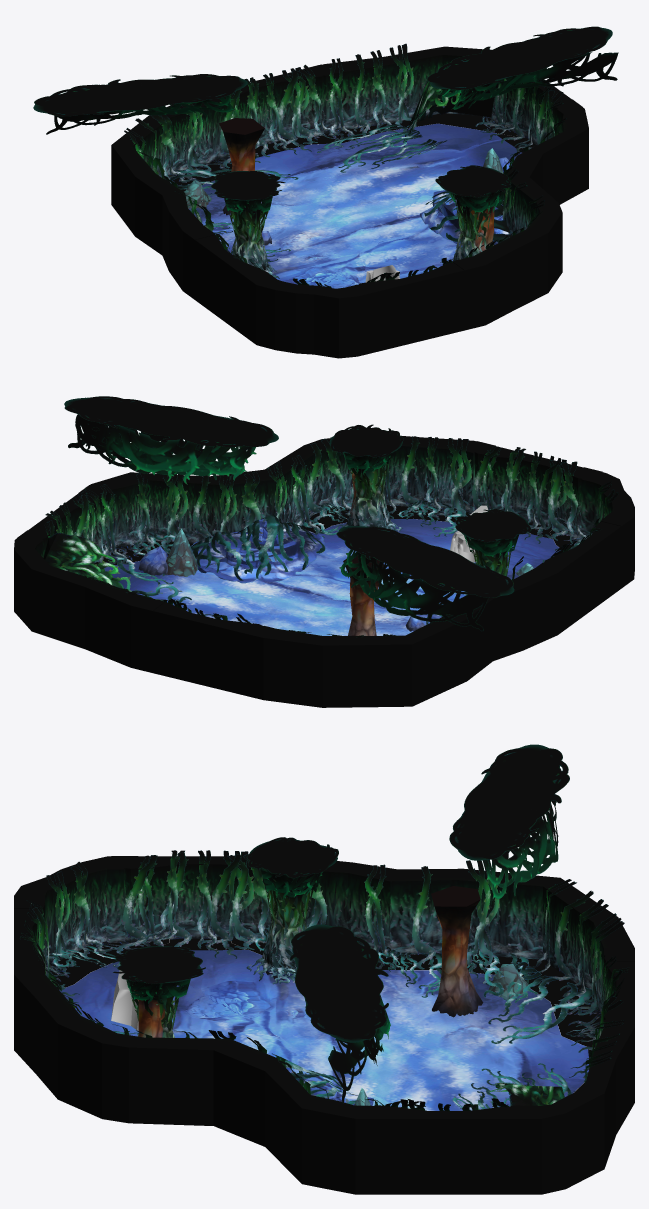
The model's file is Dungeon_012_BossRoom.fbx.
3 renders of one model, top to bottom at view 1: azimuth 30°, elevation 25°; view 2: azimuth 150°, elevation 25°; view 3: azimuth 270°, elevation 25°, orthographic. The views are drawn at different scales.
Visible parts, largest first — view 1: Dun_021_Room_003_wall, Dun_021_Room_003_ground, un_021_Door_002 (×4), Dungeon_021_Object_025, Dungeon_021_Object_021, un_021_Door_002_Object1 (×2), Dungeon_021_Object_024, Dungeon_021_Object_010, Dungeon_021_Object_012, Dungeon_011_Object_010 (×2), Dun_011_Room_003_shadow, Dungeon_021_Object_013 (+5 smaller); view 2: Dun_021_Room_003_wall, Dungeon_021_Object_025, un_021_Door_002 (×4), Dun_021_Room_003_ground, Dungeon_021_Object_021, un_021_Door_002_Object1 (×2), Dungeon_021_Object_015, Dungeon_021_Object_016, Dungeon_021_Object_024, Dungeon_021_Object_012, Dungeon_021_Object_010, Dungeon_021_Object_011 (+7 smaller); view 3: Dun_021_Room_003_wall, Dun_021_Room_003_ground, Dungeon_021_Object_025, un_021_Door_002 (×4), Dungeon_021_Object_021, un_021_Door_002_Object1 (×3), Dungeon_011_Object_010 (×2), Dungeon_021_Object_022, Dun_011_Room_003_shadow, Dungeon_021_Object_012, Dungeon_021_Object_010, Dungeon_021_Object_013 (+6 smaller).
Part boxes in pixels (<box>): Dun_021_Room_003_wall: <box>111,46,588,358</box>; Dun_021_Room_003_ground: <box>188,123,521,288</box>; un_021_Door_002 (×4): <box>185,64,582,351</box>; Dungeon_021_Object_025: <box>33,26,618,134</box>; Dungeon_021_Object_021: <box>124,43,566,287</box>; un_021_Door_002_Object1 (×2): <box>219,64,563,168</box>; Dungeon_021_Object_024: <box>317,81,498,172</box>; Dungeon_021_Object_010: <box>435,165,511,213</box>; Dungeon_021_Object_012: <box>211,171,285,215</box>; Dungeon_011_Object_010 (×2): <box>219,118,503,252</box>; Dun_011_Room_003_shadow: <box>166,113,517,191</box>; Dungeon_021_Object_013: <box>227,202,279,278</box>; Dun_021_Room_003_wall: <box>14,435,634,707</box>; Dungeon_021_Object_025: <box>64,396,514,631</box>; un_021_Door_002 (×4): <box>17,441,631,694</box>; Dun_021_Room_003_ground: <box>104,518,560,635</box>; Dungeon_021_Object_021: <box>72,436,618,637</box>; un_021_Door_002_Object1 (×2): <box>44,446,586,562</box>; Dungeon_021_Object_015: <box>191,519,325,583</box>; Dungeon_021_Object_016: <box>190,514,325,580</box>; Dungeon_021_Object_024: <box>43,532,213,615</box>; Dungeon_021_Object_012: <box>455,509,531,558</box>; Dungeon_021_Object_010: <box>329,424,403,475</box>; Dungeon_021_Object_011: <box>335,456,402,537</box>; Dun_021_Room_003_wall: <box>14,856,634,1194</box>; Dun_021_Room_003_ground: <box>59,950,588,1110</box>; Dungeon_021_Object_025: <box>289,744,569,1103</box>; un_021_Door_002 (×4): <box>14,856,634,1194</box>; Dungeon_021_Object_021: <box>38,860,624,1105</box>; un_021_Door_002_Object1 (×3): <box>20,850,628,1082</box>; Dungeon_011_Object_010 (×2): <box>132,886,483,1037</box>; Dungeon_021_Object_022: <box>49,929,591,1043</box>; Dun_011_Room_003_shadow: <box>49,939,600,1092</box>; Dungeon_021_Object_012: <box>246,837,338,901</box>; Dungeon_021_Object_010: <box>112,946,205,1004</box>; Dungeon_021_Object_013: <box>246,873,315,984</box>.
Size of what is drawn, in the model's own units: 18.45 by 4.55 by 15.
